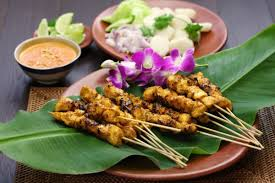sate: (52, 69, 261, 162)
